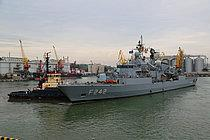MIL_Ship: (59, 49, 198, 100)
